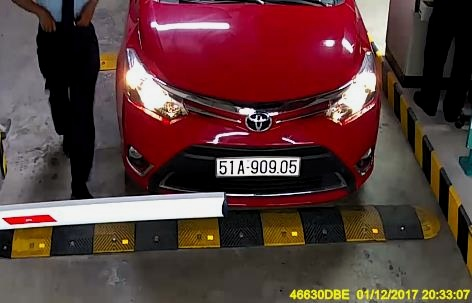plate: (213, 150, 301, 177)
